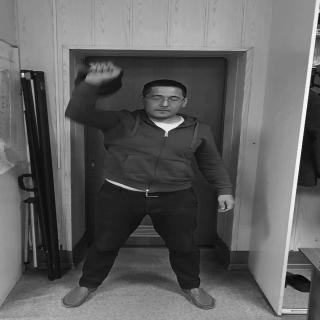kettlebell: (74, 66, 128, 99)
